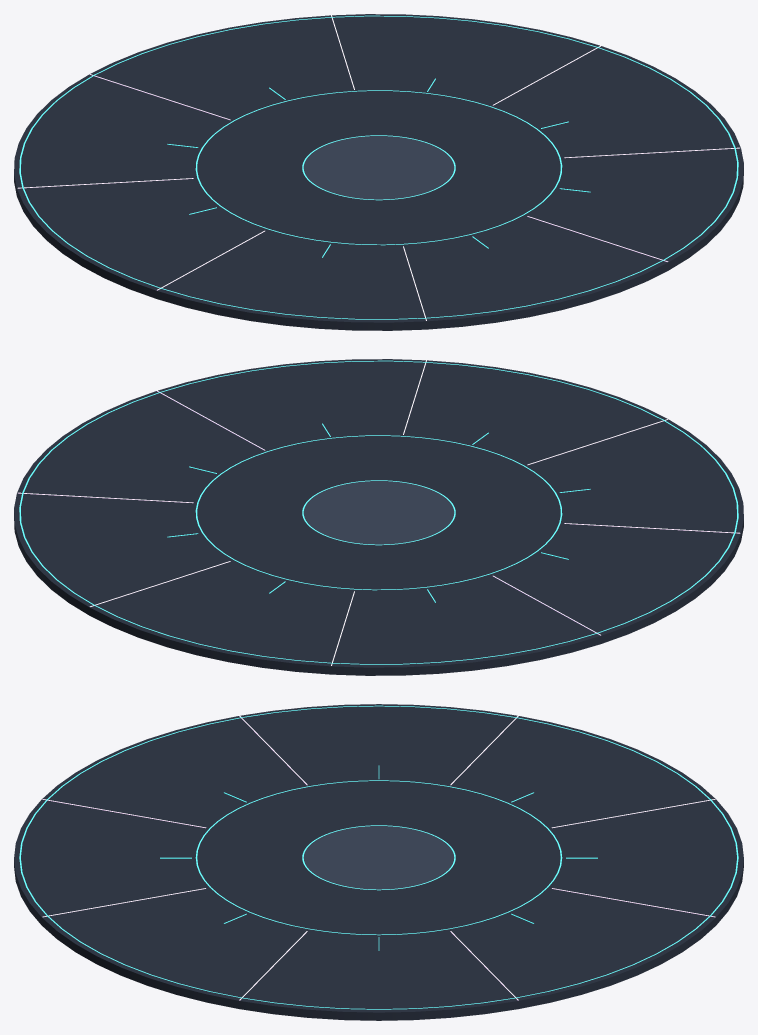
3 views of the same model, one above another, from view 1: azimuth 30°, elevation 25°; view 2: azimuth 150°, elevation 25°; view 3: azimuth 270°, elevation 25° (orthographic).
Parts seen in each view (by area): view 1: nexo_floor.lod1; view 2: nexo_floor.lod1; view 3: nexo_floor.lod1.
Part boxes in pixels (bbox=[...]): nexo_floor.lod1: bbox=[14, 14, 743, 330]; nexo_floor.lod1: bbox=[14, 359, 743, 675]; nexo_floor.lod1: bbox=[14, 704, 743, 1020].
Bounding box in the file's own units: 48 × 0.6446 × 48.
